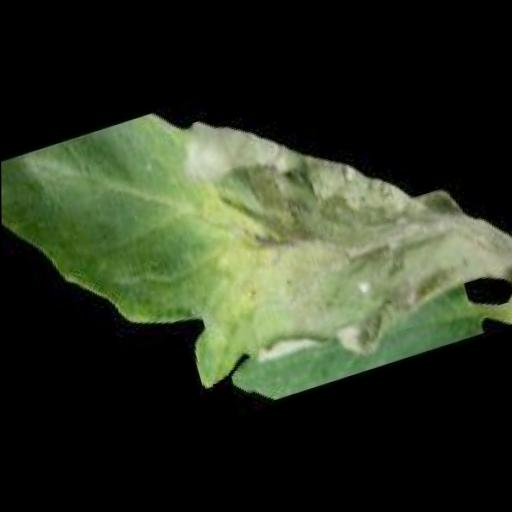Late Blight: (0, 16, 512, 473)
